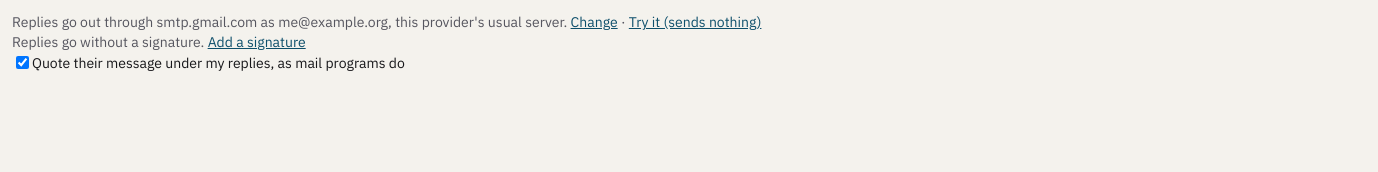
how a mailbox sends › can be tried before replies depend on it, signing in and sending nothing
Click the button "Try it (sends nothing)" at (695, 22), box [629,12,761,32]
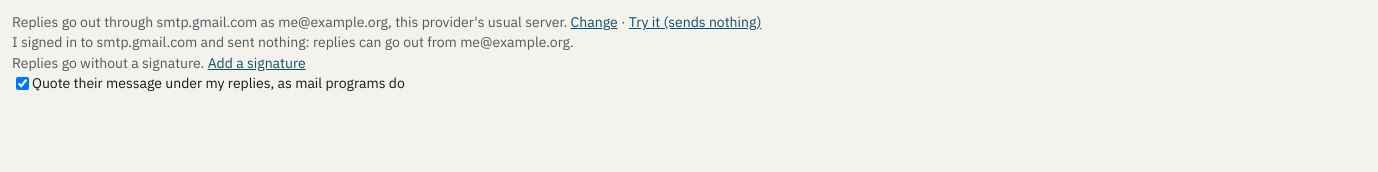
Result: the text "I signed in to smtp.gmail.com and sent nothing: replies can go out from me@example.org." is shown at [12,33,574,51]
Click the button "Try it (sends nothing)" at (695, 22), box [629,12,761,32]
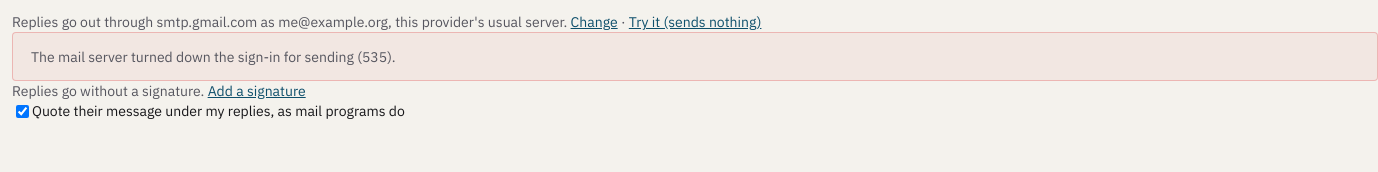
Result: the text "The mail server turned down the sign-in for sending (535)." is shown at [31,47,396,68]
